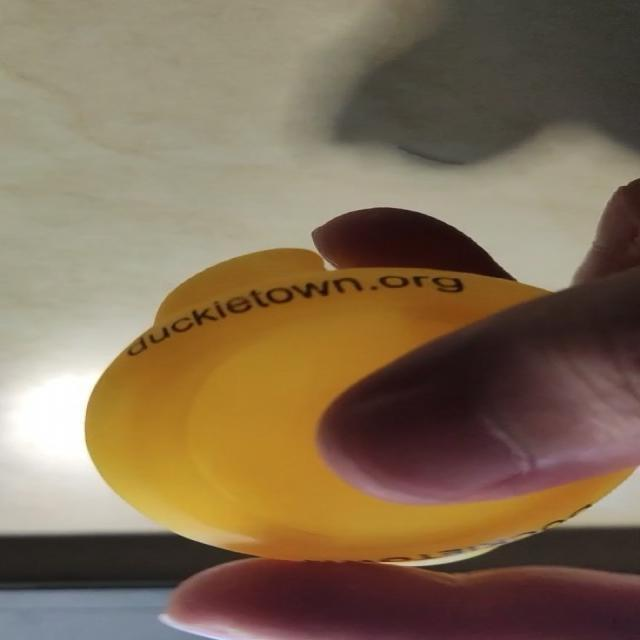rubber-duck: (85, 248, 629, 559)
